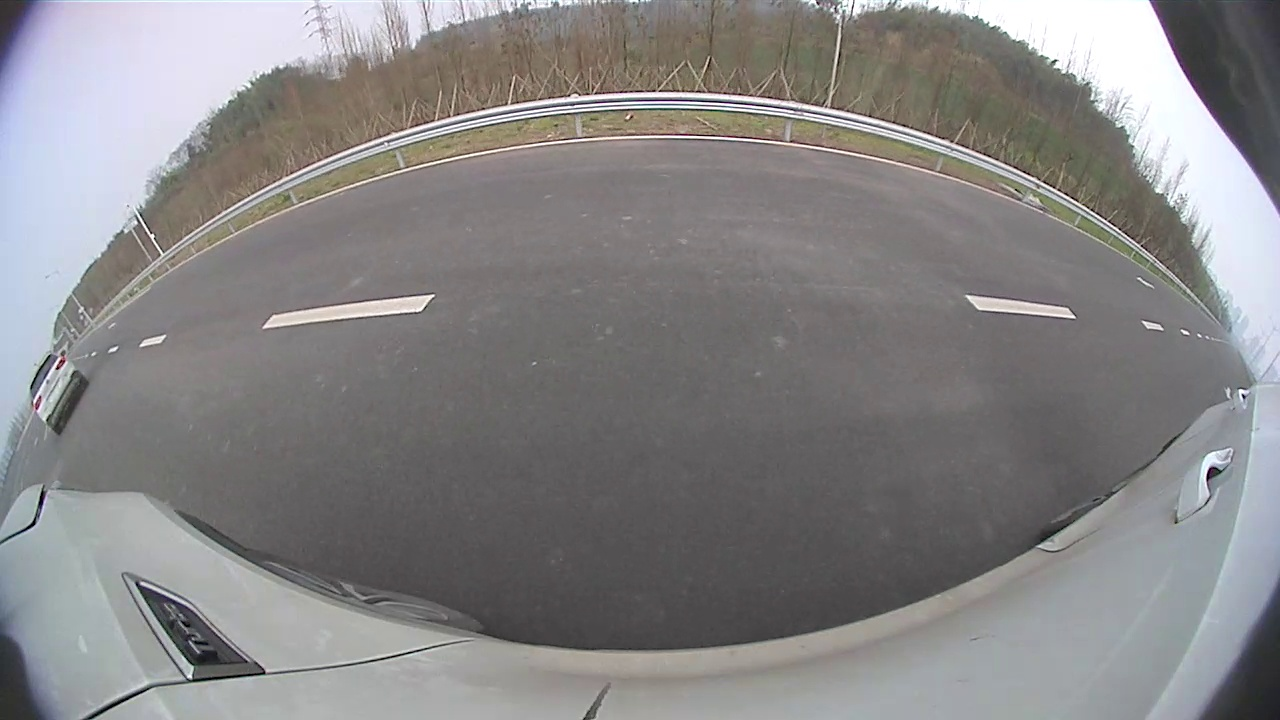car: (28, 353, 90, 434)
